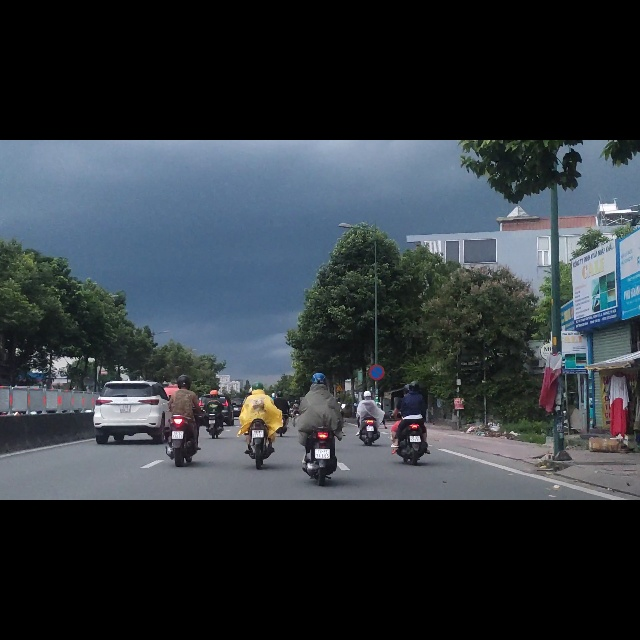bien_hieu_lenh: (369, 398, 385, 426), (336, 435, 343, 448)
